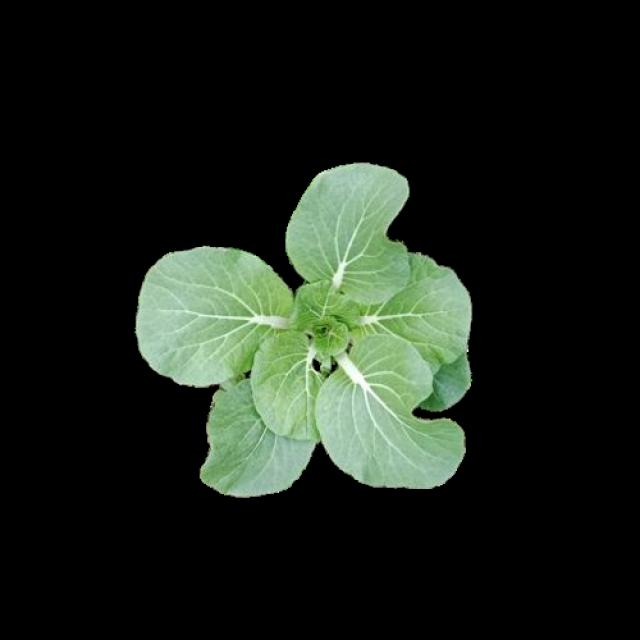healthy: (136, 166, 464, 493)
not-mature: (138, 169, 467, 495)
